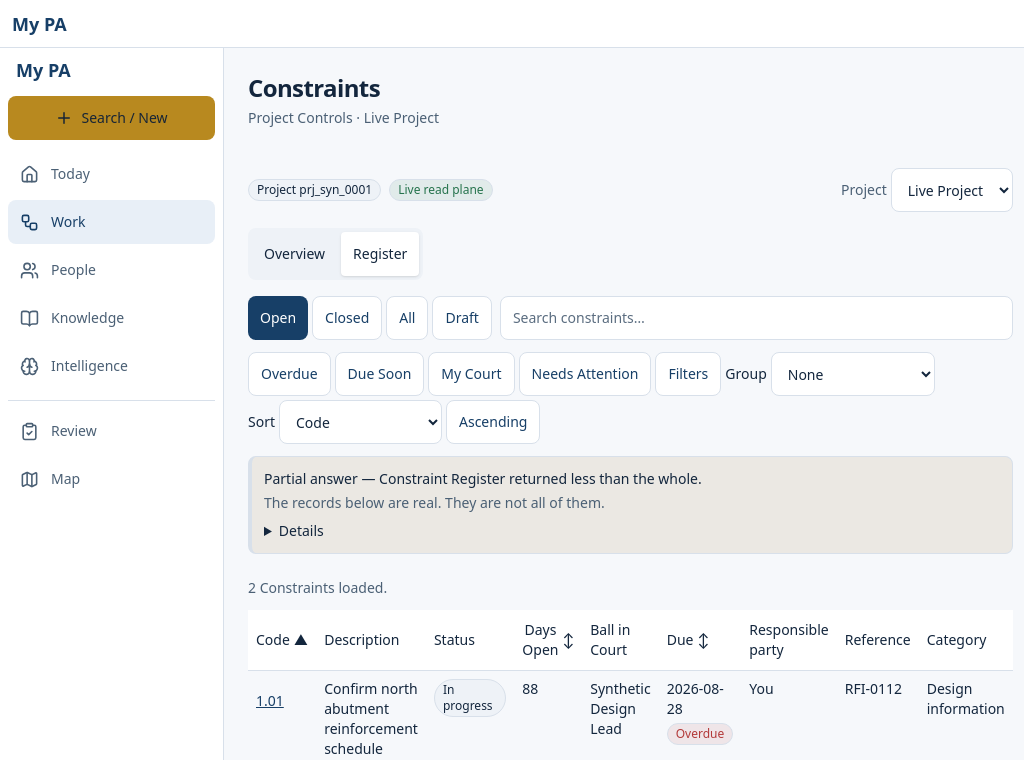
Test: the live read-only workspace › immediately hides prior rows and disclosure when the Register query changes
Expected: the message with test id "degraded-banner" is shown, [248,456,1013,554]
Type "x" into the search field with test id "register-search" at (756, 318), box [500,296,1013,340]
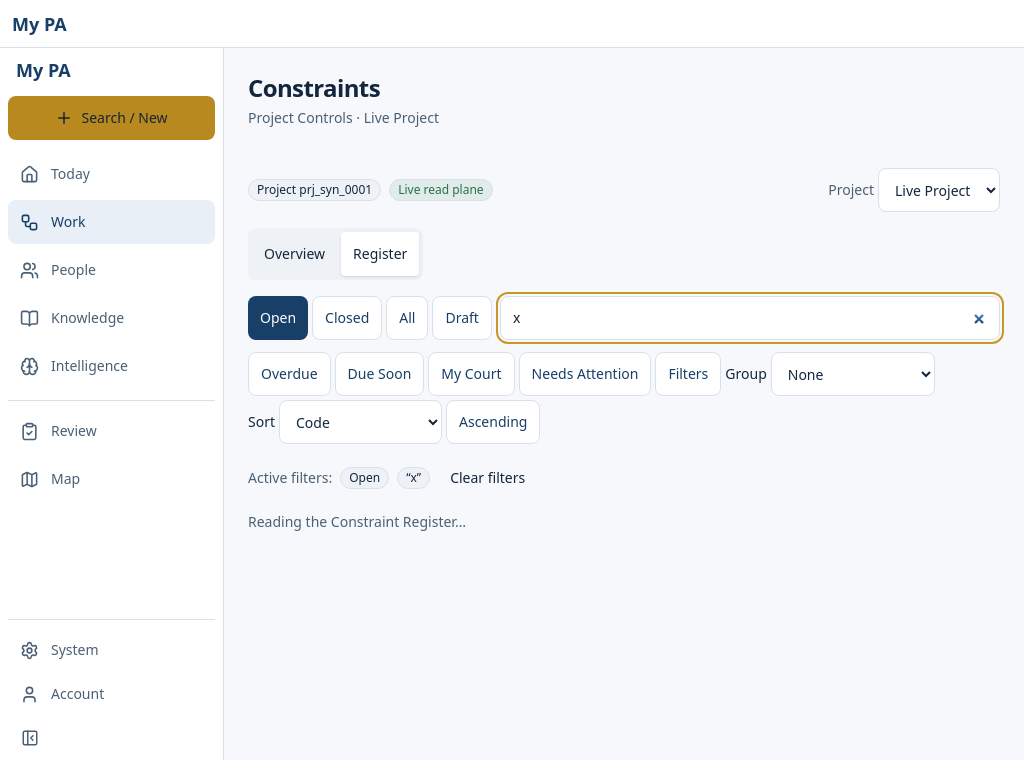
Expected: the message with test id "degraded-banner" is gone
Expected: the message "Reading the Constraint Register…" is shown, [248,512,466,531]
